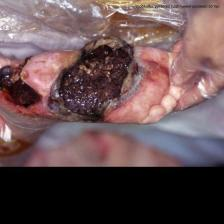Wound: (47, 40, 154, 126), (0, 51, 45, 111)
